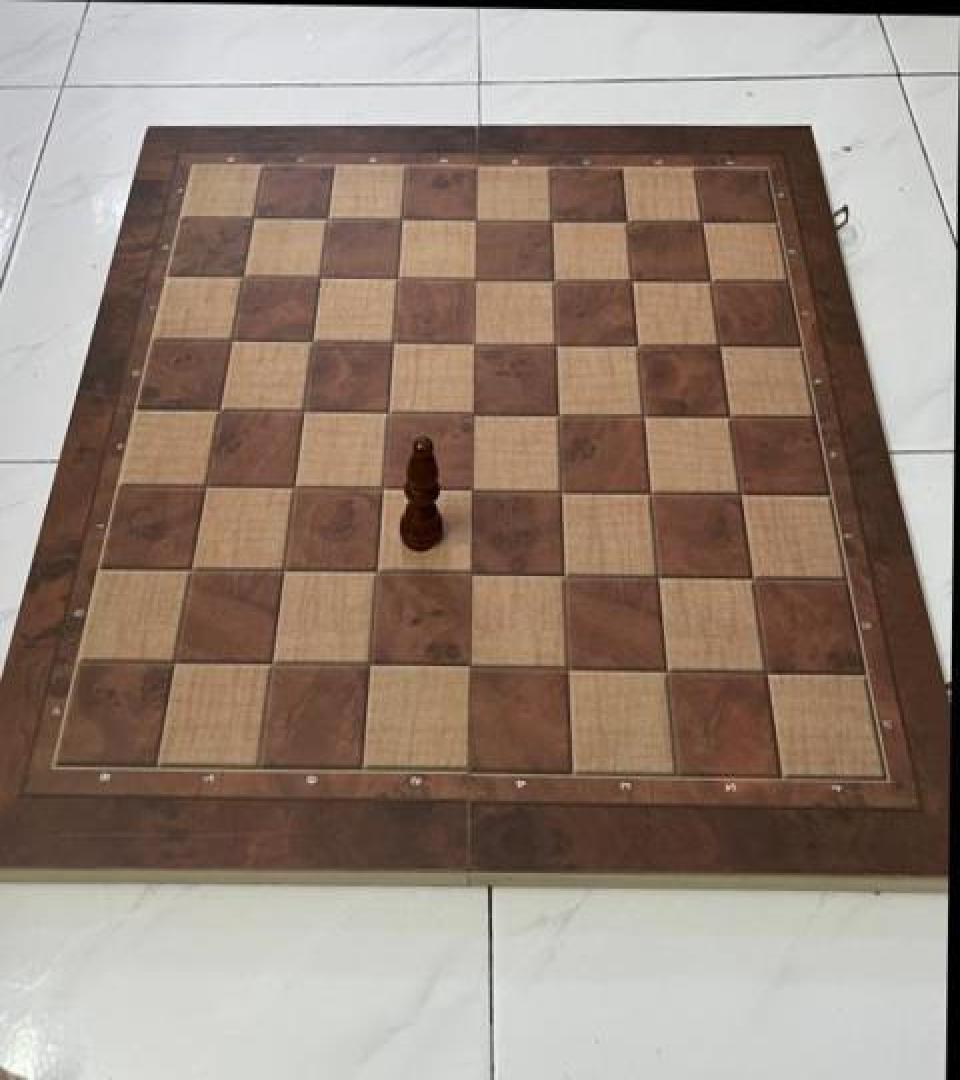xcorner: (461, 200, 495, 239), (535, 200, 569, 239), (609, 201, 643, 240), (684, 202, 718, 241), (228, 255, 262, 294), (256, 642, 290, 681), (238, 197, 272, 235), (312, 198, 346, 236), (386, 199, 420, 237), (305, 256, 339, 294), (382, 258, 416, 296), (460, 259, 494, 297), (537, 259, 571, 297), (614, 260, 648, 298), (692, 261, 726, 299), (216, 320, 250, 358), (297, 321, 331, 359), (378, 321, 412, 359), (458, 322, 492, 360), (539, 323, 573, 361), (620, 324, 654, 362), (701, 325, 735, 363), (204, 388, 238, 426), (288, 390, 322, 428), (373, 390, 407, 428), (457, 392, 491, 430), (542, 393, 576, 431), (626, 394, 660, 432), (711, 395, 745, 433), (190, 465, 224, 503), (279, 466, 313, 504), (367, 467, 401, 505), (456, 468, 490, 506), (545, 469, 579, 507), (633, 470, 667, 508), (722, 472, 756, 510), (175, 548, 209, 586), (268, 550, 302, 588), (361, 552, 395, 590), (454, 552, 488, 590), (548, 554, 582, 592), (641, 555, 675, 593), (734, 556, 768, 594), (158, 642, 192, 680), (354, 644, 388, 682), (453, 646, 487, 684), (551, 647, 585, 685), (649, 648, 683, 686), (748, 649, 782, 687)
